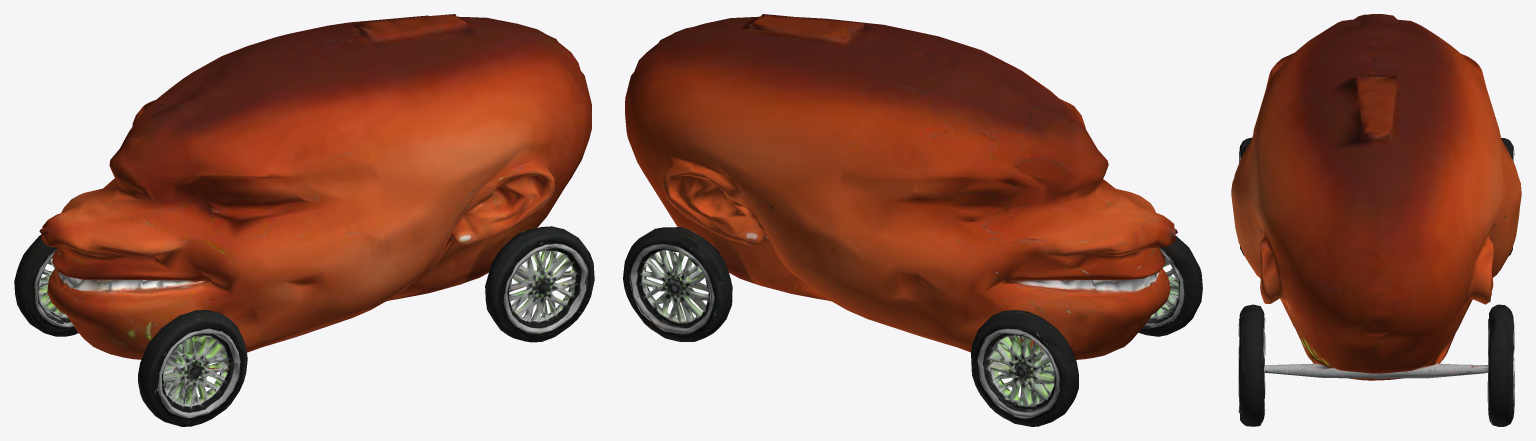
Rendered from ur_megaface.glb.
The picture shows the model from 3 angles, left to right: view 1: azimuth 30°, elevation 25°; view 2: azimuth 150°, elevation 25°; view 3: azimuth 270°, elevation 25°; orthographic projection.
Bounding box in the file's own units: 1.9 × 0.9735 × 0.8808.
Materials: 1 (1 with a texture image).
